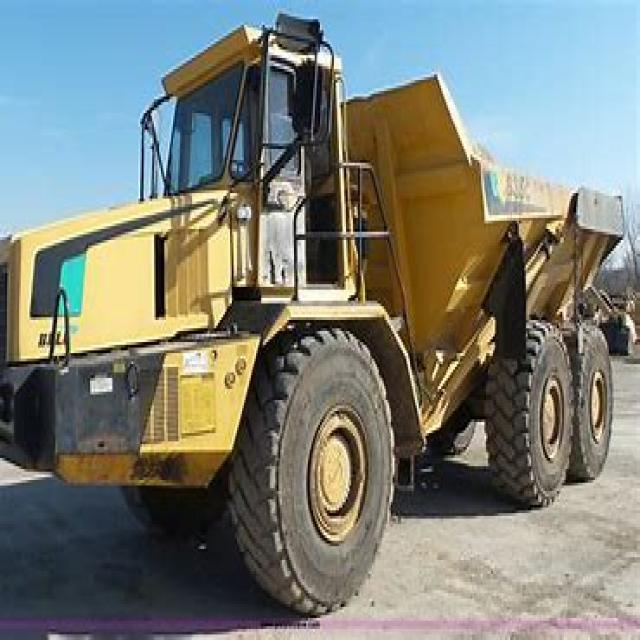dump_truck: (12, 11, 625, 607)
